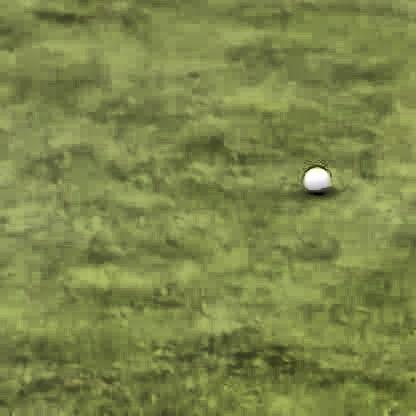golfball: (298, 161, 329, 192)
